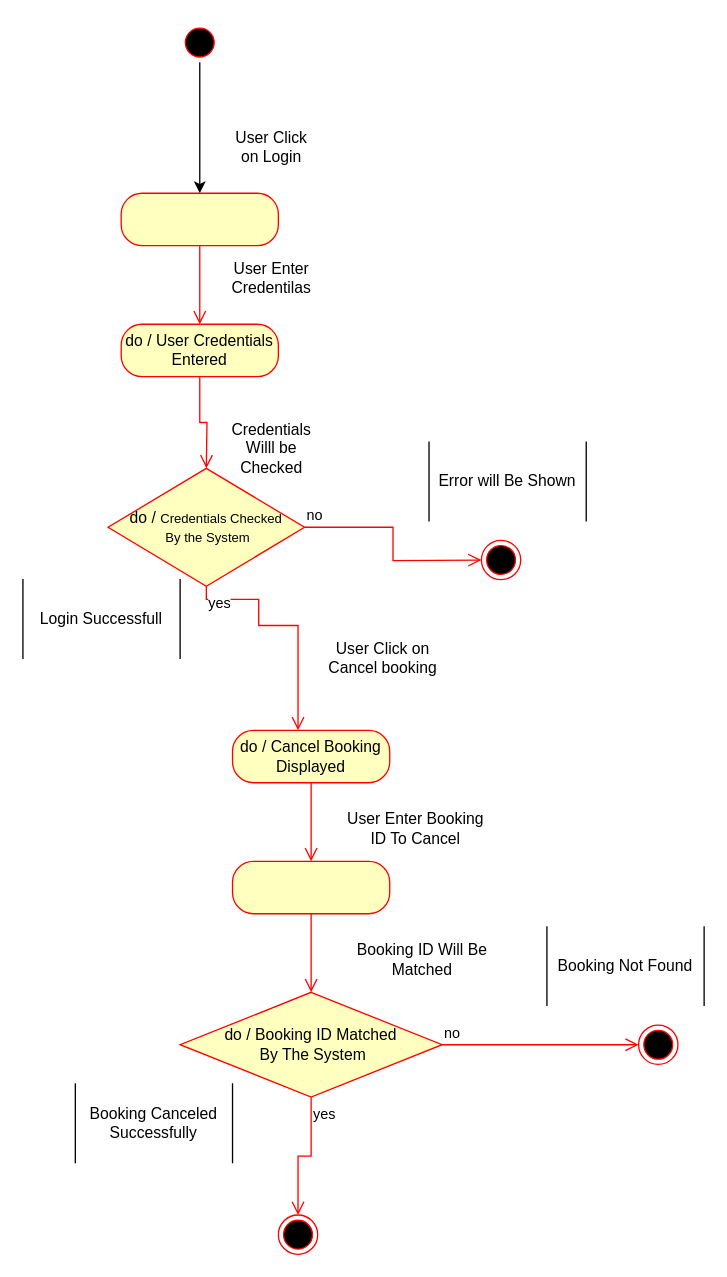
The diagram is 727 pixels wide and 1277 high, and some of its shapes have lost their labels. The centre of each missing label's shape, as x and y in pixels:
do / Booking ID Entered: the point at 310,887
do / Login Page Shown: the point at 199,219
